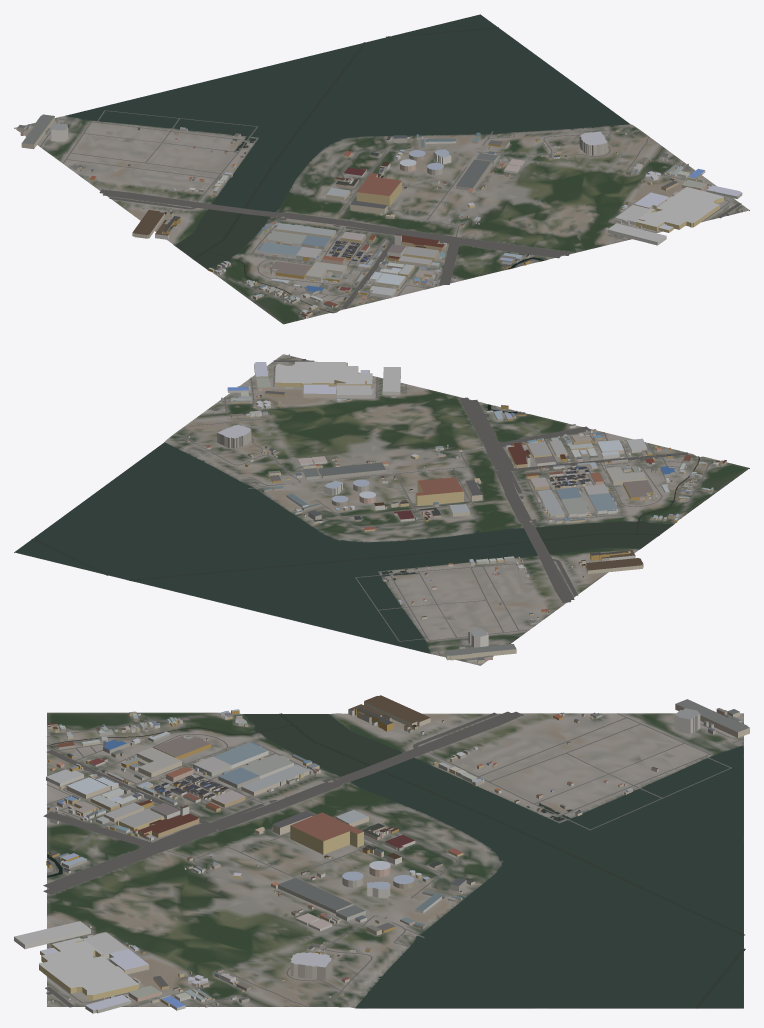
3 views of the same model, one above another, from view 1: azimuth 30°, elevation 25°; view 2: azimuth 150°, elevation 25°; view 3: azimuth 270°, elevation 25° (orthographic). The views are drawn at different scales.
Parts seen in each view (by area): view 1: ground, water, buildings, roads; view 2: ground, water, buildings, roads; view 3: ground, water, buildings, roads.
Part boxes in pixels (left/top/right/bottom): ground: left=14, top=27, right=749, bottom=324; water: left=65, top=14, right=629, bottom=312; buildings: left=17, top=114, right=743, bottom=318; roads: left=40, top=110, right=741, bottom=314; ground: left=14, top=354, right=749, bottom=665; water: left=15, top=404, right=699, bottom=653; buildings: left=185, top=354, right=726, bottom=663; roads: left=174, top=359, right=711, bottom=659; ground: left=47, top=712, right=743, bottom=1008; water: left=47, top=713, right=745, bottom=1008; buildings: left=14, top=695, right=749, bottom=1013; roads: left=43, top=711, right=743, bottom=1007.
Bounding box in the file's own units: 1498 × 36.6 × 1479.
